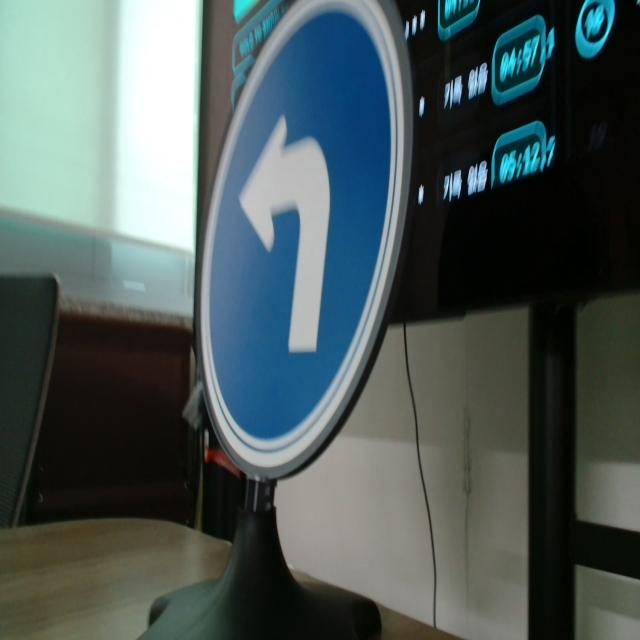left_direction: (192, 5, 412, 479)
